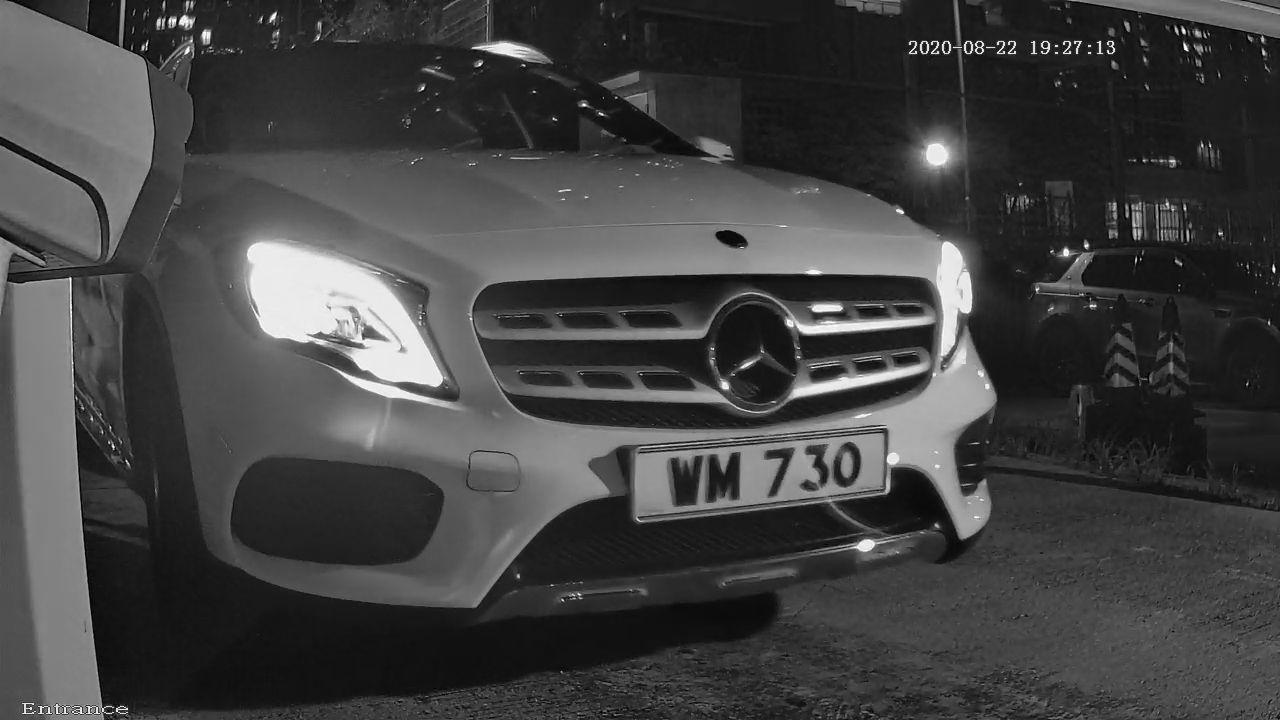Car: (1, 1, 1143, 682)
License Plate: (555, 391, 963, 549)
